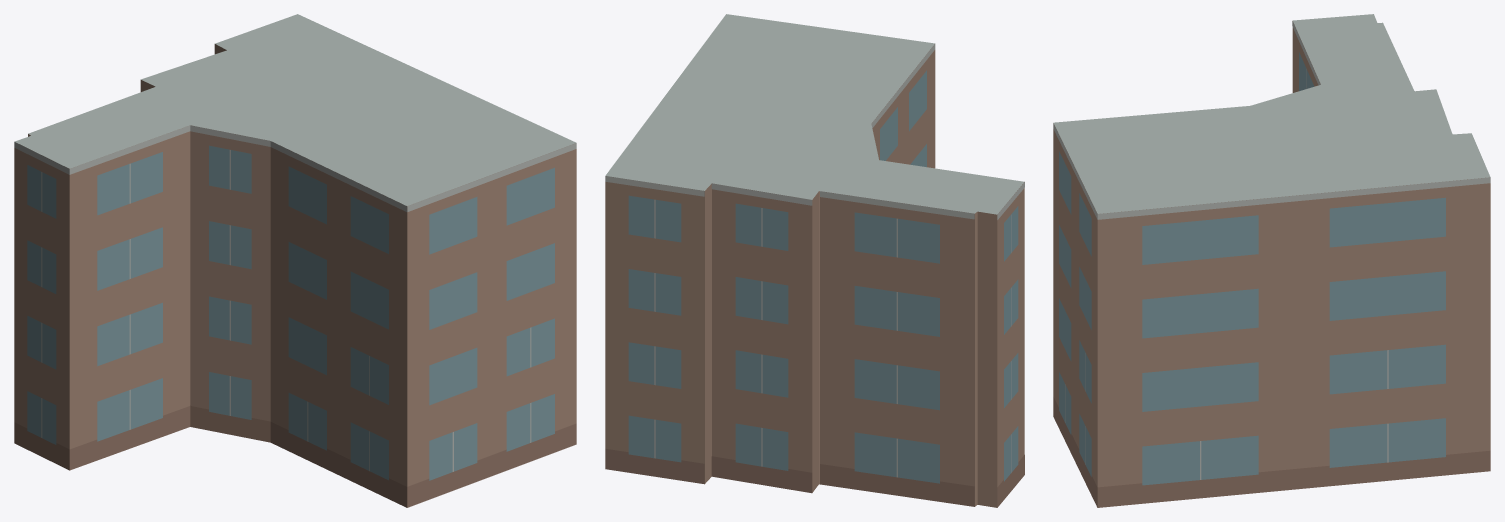
File: survey-upis-32501153.glb
3 renders of one model, left to right at view 1: azimuth 30°, elevation 25°; view 2: azimuth 150°, elevation 25°; view 3: azimuth 270°, elevation 25°, orthographic. The views are drawn at different scales.
Parts seen in each view (by area): view 1: survey-upis-32501153.tmp; view 2: survey-upis-32501153.tmp; view 3: survey-upis-32501153.tmp.
Boxes of the visible parts, <box> form: survey-upis-32501153.tmp: <box>14,14,576,507</box>; survey-upis-32501153.tmp: <box>605,14,1024,507</box>; survey-upis-32501153.tmp: <box>1053,14,1490,507</box>.
Bounding box in the file's own units: 17.74 × 12.15 × 16.39.
